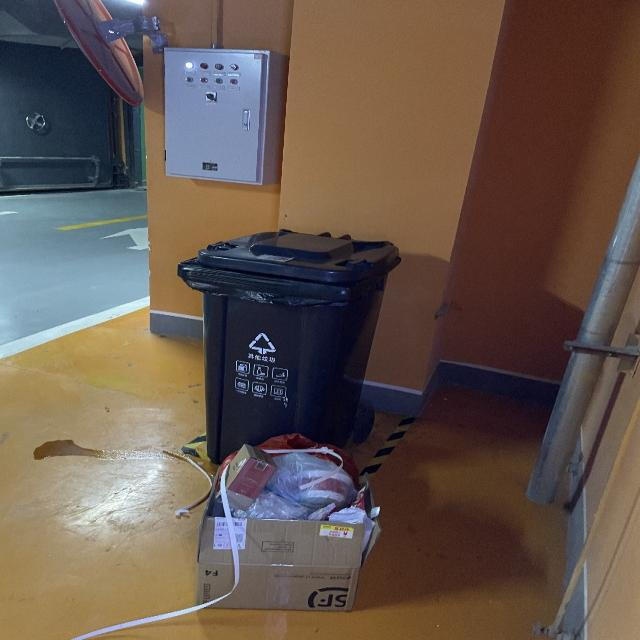garbage: (68, 432, 380, 640)
garbage_bin: (176, 230, 401, 465)
